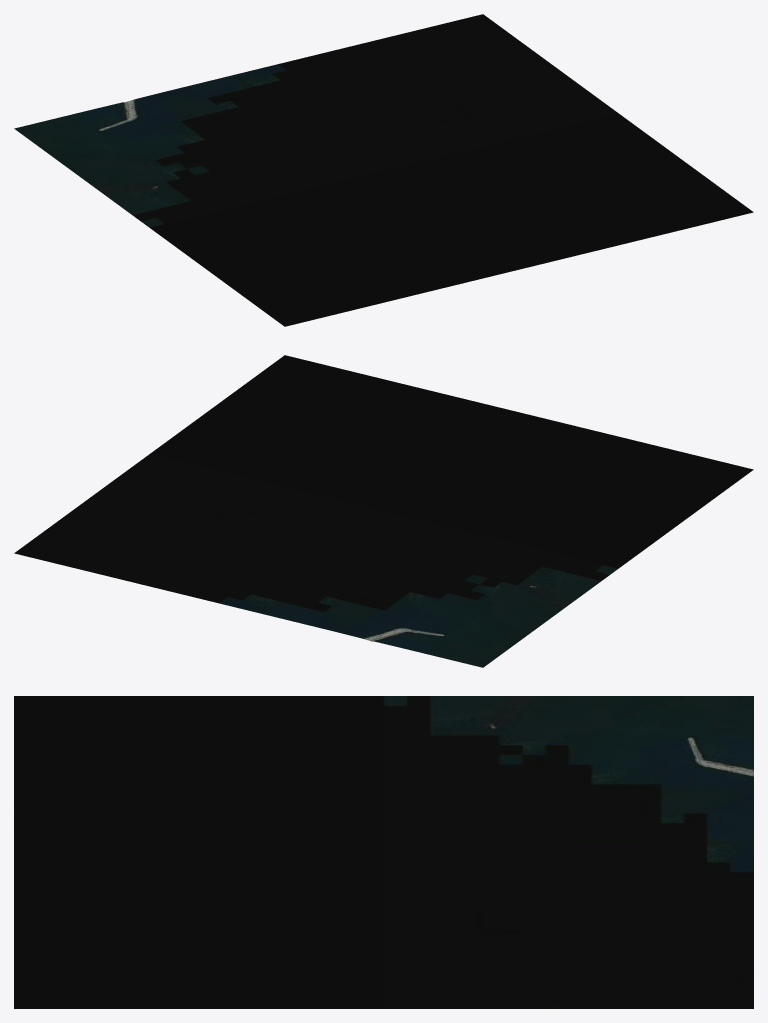
The model's file is map_10_252_424.dae.
3 views of the same model, one above another, from view 1: azimuth 30°, elevation 25°; view 2: azimuth 150°, elevation 25°; view 3: azimuth 270°, elevation 25° (orthographic). The views are drawn at different scales.
Parts seen in each view (by area): view 1: Ter0; view 2: Ter0; view 3: Ter0.
Boxes of the visible parts, box(x1,y1,x2,y2) form: Ter0: box(14, 14, 753, 326); Ter0: box(14, 355, 753, 667); Ter0: box(14, 696, 753, 1008).
Size of the model in its own units: 2044 by 2044 by 3.99.
3 materials, 3 textured.
